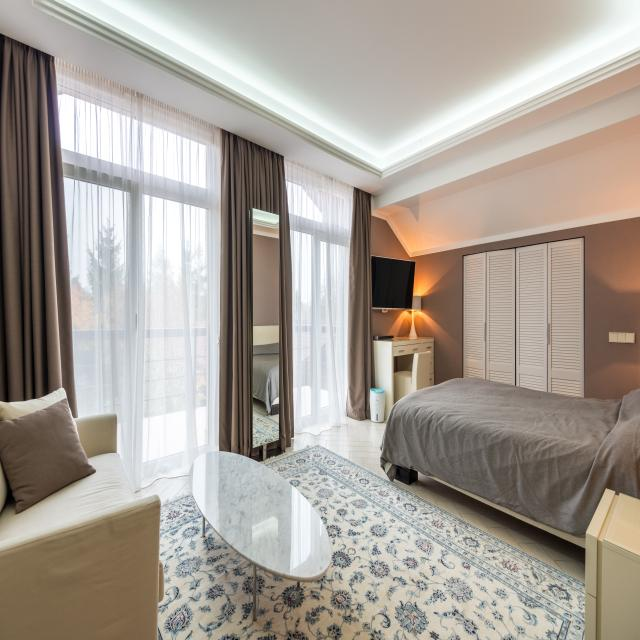floor: (393, 472, 586, 584), (285, 415, 391, 482), (135, 475, 191, 504)
wall: (371, 215, 640, 400), (373, 85, 640, 210), (371, 134, 640, 257), (372, 309, 410, 337), (410, 311, 412, 330), (406, 335, 409, 336)
